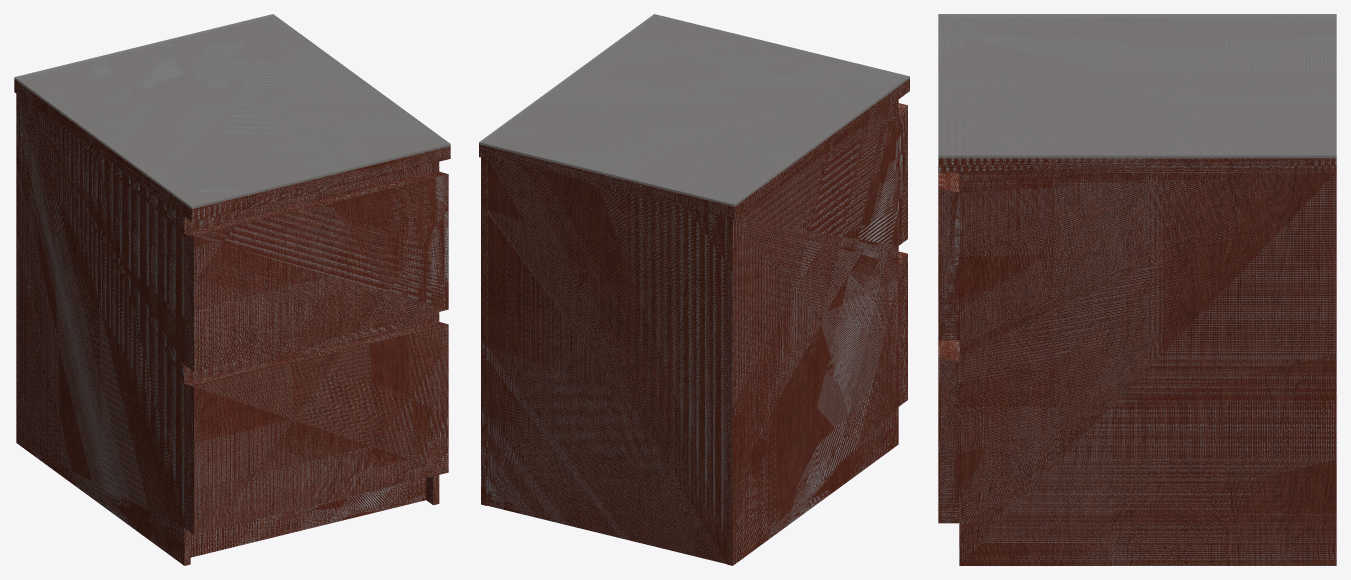
Rendered from bstable1.dae.
The picture shows the model from 3 angles, left to right: view 1: azimuth 30°, elevation 25°; view 2: azimuth 150°, elevation 25°; view 3: azimuth 270°, elevation 25°; orthographic projection. The views are drawn at different scales.
Parts seen in each view (by area): view 1: group_0 (×2); view 2: group_0 (×2); view 3: group_0 (×2).
Boxes of the visible parts, bbox=[...] form: group_0 (×2): bbox=[14, 14, 450, 565]; group_0 (×2): bbox=[479, 14, 909, 565]; group_0 (×2): bbox=[938, 14, 1336, 565].
Bounding box in the file's own units: 16 × 19 × 21.64.
Materials: 4 (1 with a texture image).
